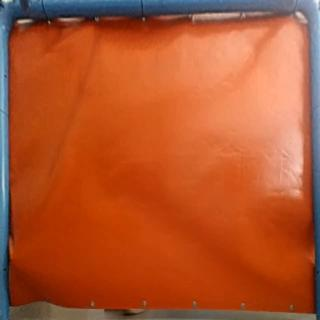Hit-hRxx: (9, 252, 21, 269)
